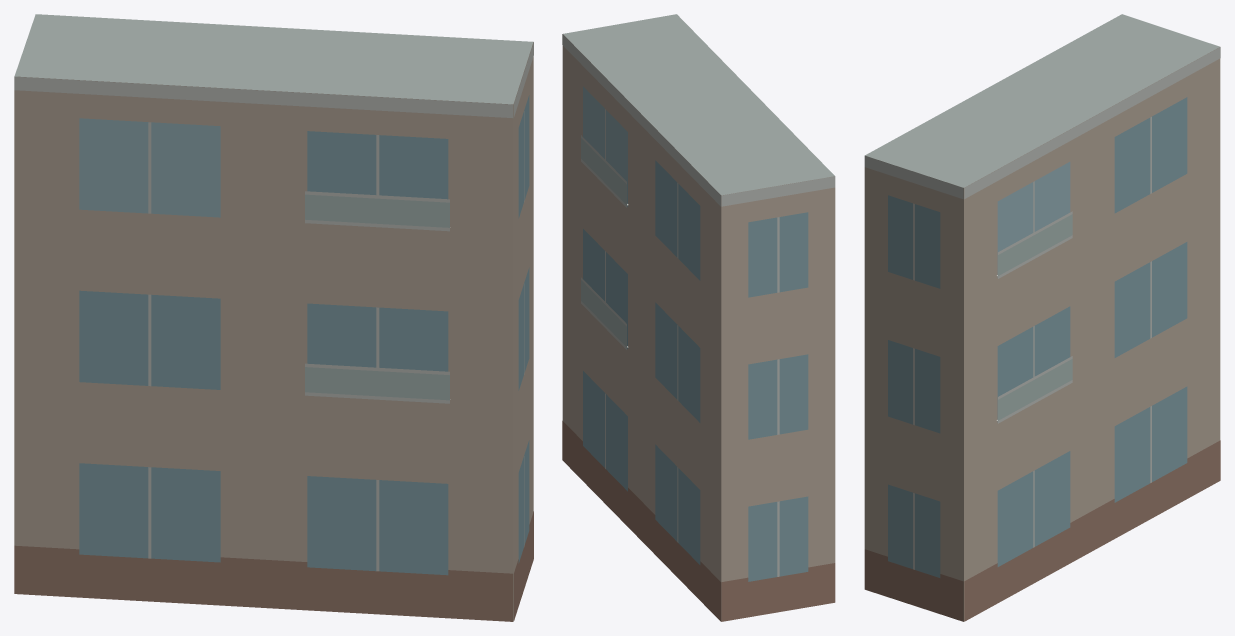
File: survey-upis-32987798.glb
3 views of the same model, side by side, from view 1: azimuth 30°, elevation 25°; view 2: azimuth 150°, elevation 25°; view 3: azimuth 270°, elevation 25° (orthographic). The views are drawn at different scales.
Visible parts, largest first — view 1: survey-upis-32987798.tmp; view 2: survey-upis-32987798.tmp; view 3: survey-upis-32987798.tmp.
Part boxes in pixels (x1,y1,x2,y2): survey-upis-32987798.tmp: [14, 14, 533, 621]; survey-upis-32987798.tmp: [562, 14, 835, 621]; survey-upis-32987798.tmp: [864, 14, 1220, 621].
Size of the model in its own units: 7.87 by 9.15 by 6.81.
